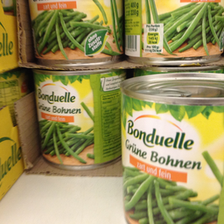beans: (120, 75, 222, 224), (32, 72, 119, 173), (27, 1, 120, 64), (124, 1, 224, 56)
